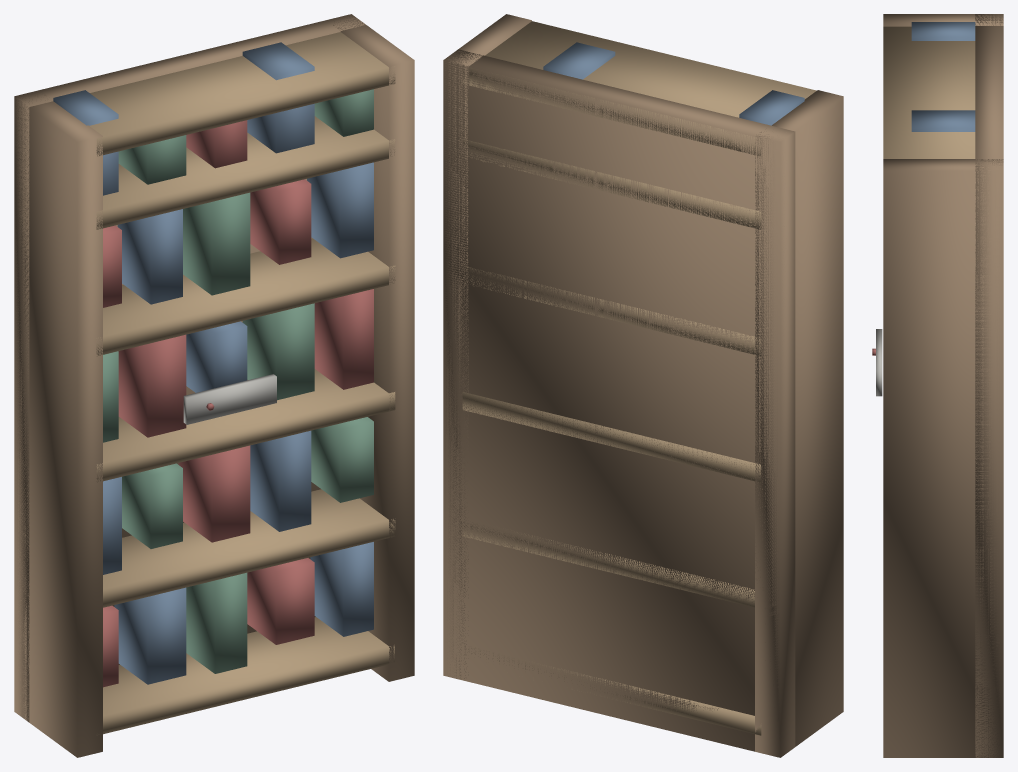
File: bookcase_bay__reinforced.glb
3 views of the same model, side by side, from view 1: azimuth 30°, elevation 25°; view 2: azimuth 150°, elevation 25°; view 3: azimuth 270°, elevation 25° (orthographic). The views are drawn at different scales.
Visible parts, largest first — view 1: world; view 2: world; view 3: world.
Part boxes in pixels (<box>): world: <box>14,14,414,757</box>; world: <box>443,14,843,757</box>; world: <box>872,14,1003,757</box>.
Size of the model in its own units: 1.08 by 1.9 by 0.3821.
